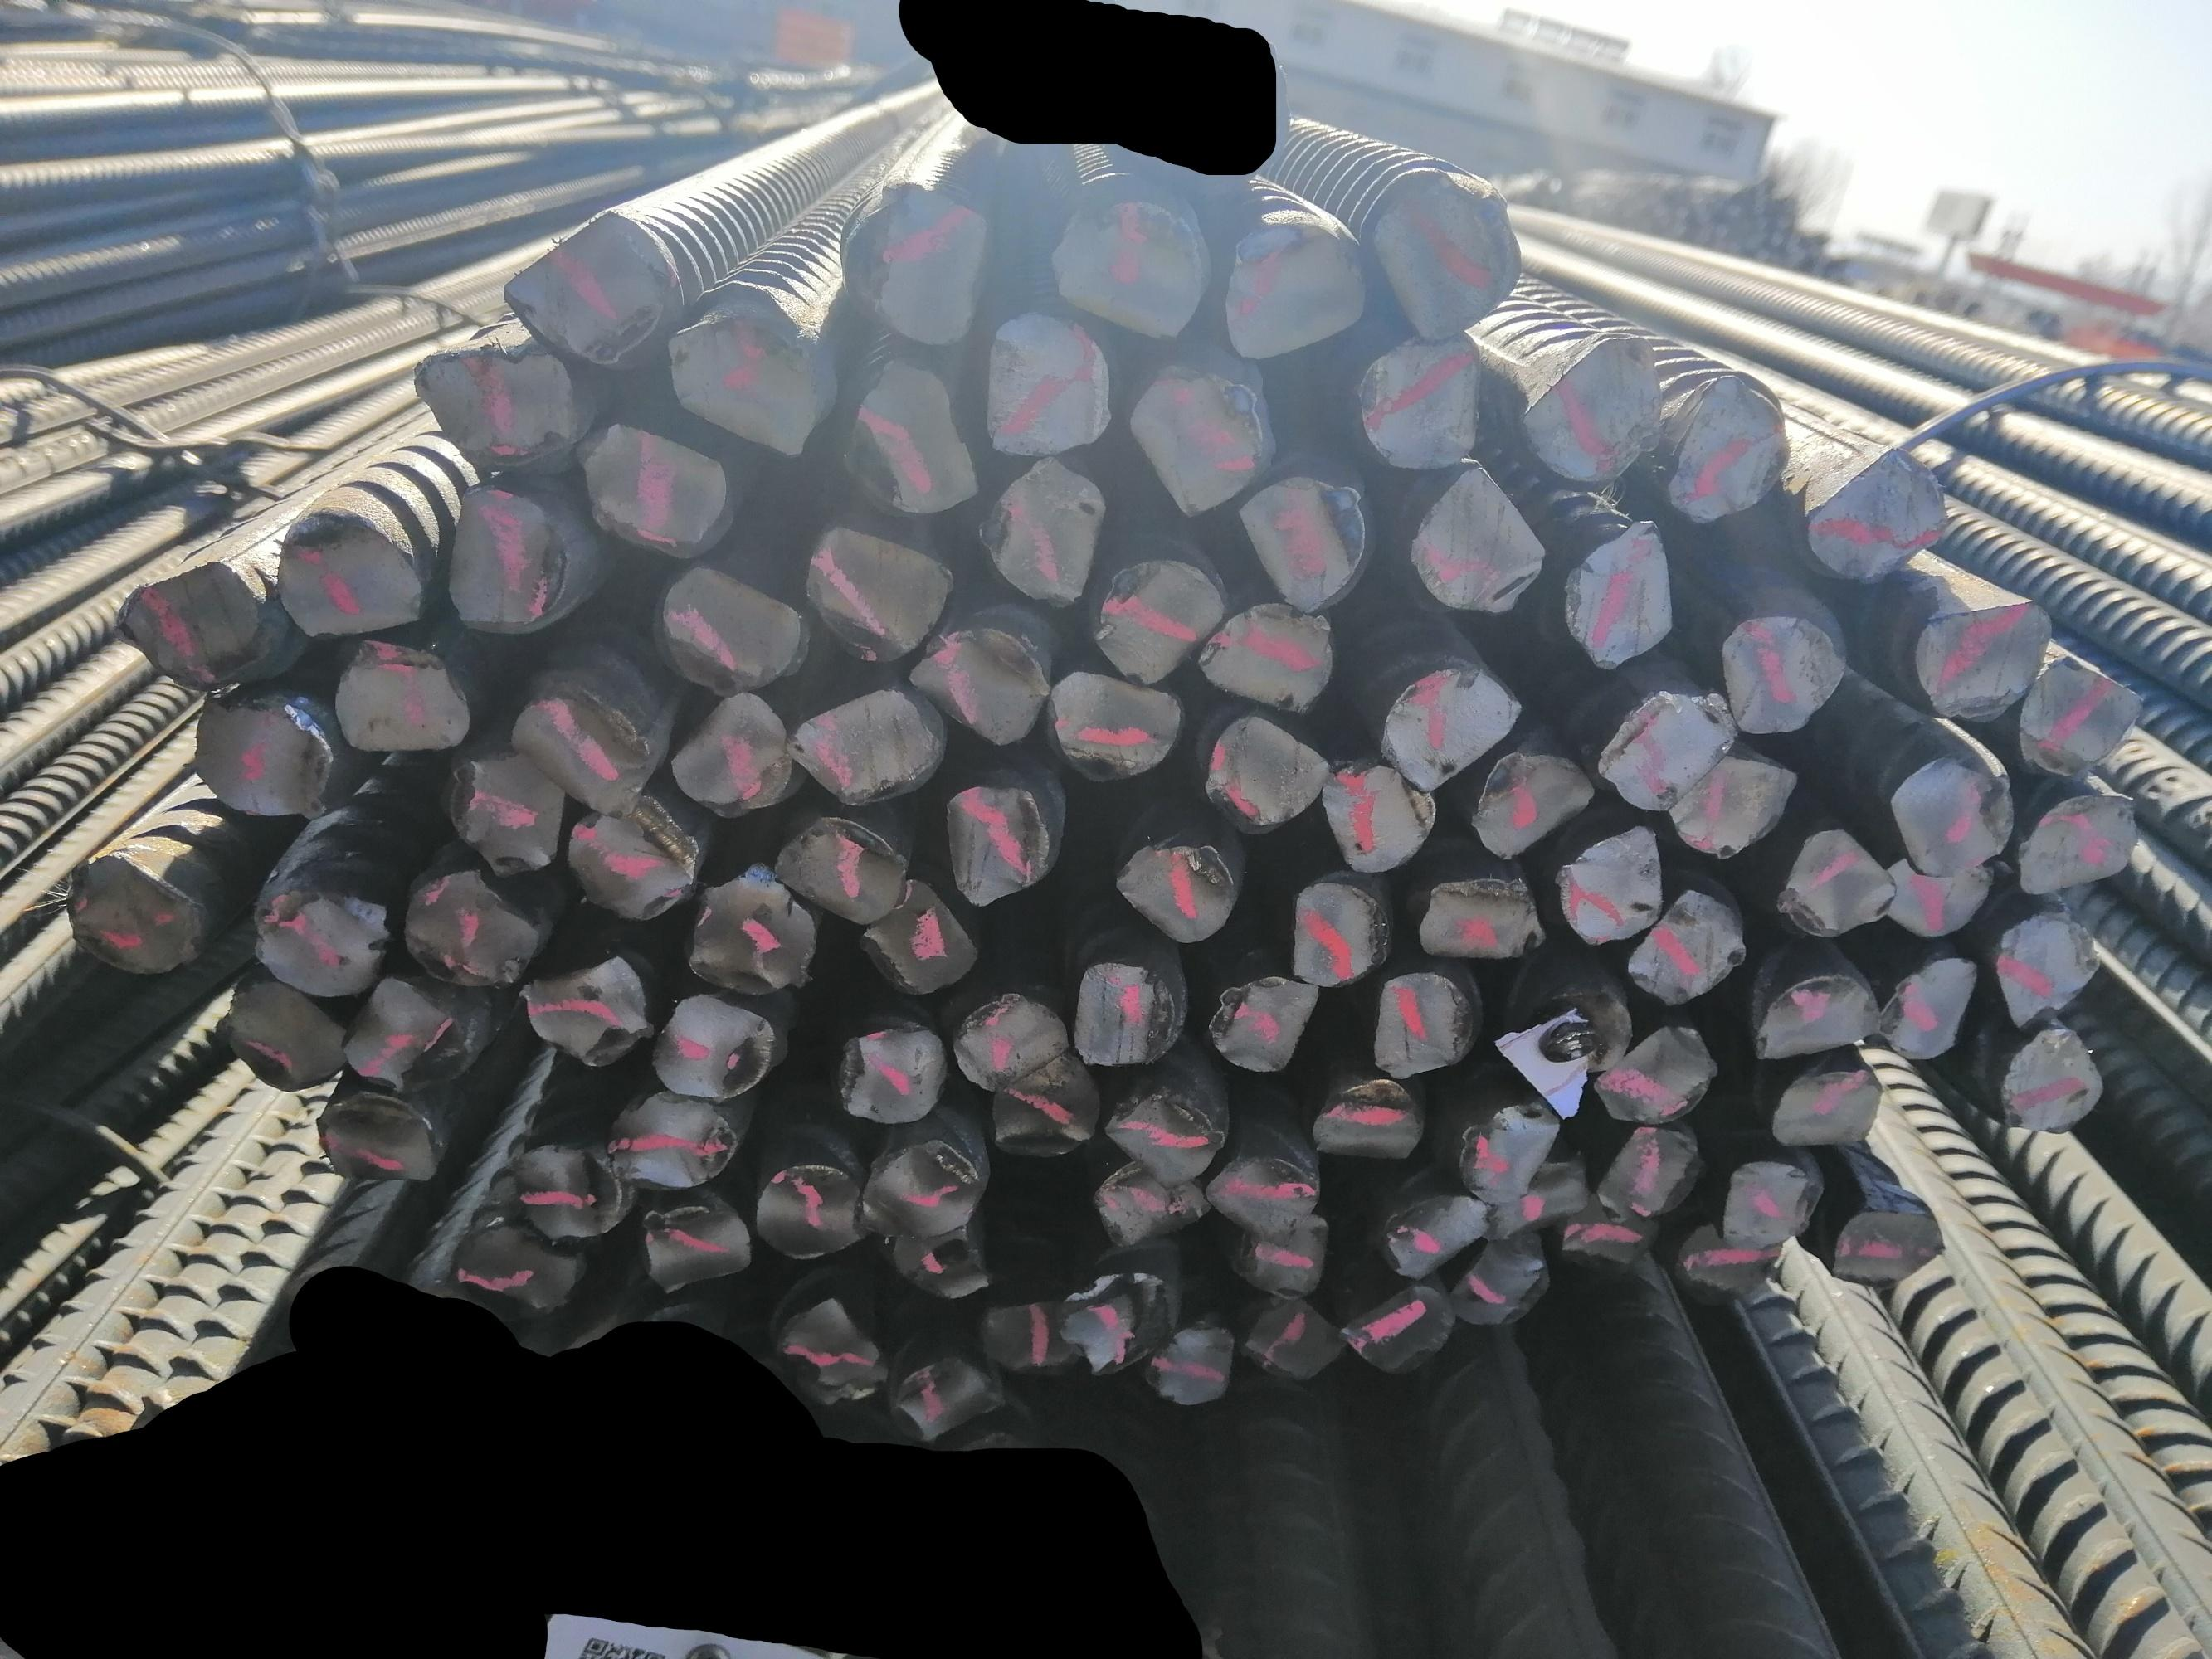bar: (1363, 169, 1520, 345), (500, 206, 671, 366), (826, 350, 983, 525), (657, 301, 844, 448), (838, 181, 990, 354), (1131, 350, 1278, 521), (1520, 333, 1663, 500), (797, 516, 957, 662), (1795, 441, 1949, 589), (1053, 188, 1208, 335), (568, 413, 729, 552), (406, 333, 572, 467), (1349, 319, 1485, 479), (1654, 369, 1788, 532), (1217, 214, 1363, 362), (277, 505, 429, 647), (973, 310, 1114, 462), (1909, 584, 2059, 721), (1407, 465, 1543, 617), (113, 558, 272, 687), (783, 671, 934, 805), (1081, 549, 1229, 685), (906, 620, 1058, 753), (981, 450, 1103, 610), (324, 636, 476, 765), (1602, 681, 1741, 821), (1377, 659, 1522, 793), (1553, 509, 1675, 667), (244, 871, 394, 1000), (443, 481, 567, 636), (185, 692, 329, 824), (1234, 467, 1367, 612), (655, 561, 807, 687), (678, 866, 823, 997), (664, 687, 805, 817), (63, 854, 202, 983), (1189, 596, 1337, 716), (509, 692, 654, 814), (2013, 641, 2142, 777), (439, 742, 563, 884), (1717, 606, 1849, 737), (643, 983, 777, 1112), (554, 796, 690, 924), (521, 948, 654, 1077), (1037, 660, 1178, 781), (933, 775, 1056, 911), (397, 864, 539, 981), (1883, 749, 2013, 875), (1199, 711, 1325, 840), (2015, 779, 2144, 904), (777, 810, 913, 927), (1623, 884, 1750, 1007), (852, 873, 971, 1006), (1121, 821, 1239, 951), (335, 976, 471, 1089), (1666, 742, 1799, 857), (216, 981, 350, 1094), (598, 1086, 739, 1192), (1471, 742, 1595, 861), (1989, 903, 2104, 1030), (457, 1213, 591, 1319), (1586, 1018, 1717, 1124), (310, 1080, 443, 1185), (987, 1053, 1105, 1169), (1072, 955, 1184, 1079), (1455, 1094, 1558, 1229), (1102, 1075, 1227, 1185), (1776, 821, 1891, 939), (1991, 1026, 2111, 1140), (772, 1288, 884, 1410), (1325, 758, 1440, 873), (1051, 1258, 1164, 1375), (1560, 824, 1668, 946), (948, 986, 1072, 1093), (1869, 946, 1975, 1068), (631, 1192, 755, 1297), (1745, 958, 1877, 1054), (835, 1021, 950, 1129), (1211, 967, 1321, 1079), (865, 1138, 980, 1244), (1365, 965, 1471, 1080), (887, 1347, 1006, 1450), (1300, 1073, 1431, 1166), (514, 1140, 629, 1244), (1232, 1281, 1347, 1385), (1339, 1279, 1459, 1378), (1417, 870, 1539, 967), (1438, 1225, 1553, 1328), (1278, 875, 1384, 985), (1515, 976, 1637, 1070), (755, 1161, 866, 1263), (1771, 1060, 1884, 1161), (1086, 1154, 1211, 1244), (1884, 840, 1996, 941), (1203, 1138, 1318, 1236), (1379, 1183, 1499, 1276), (1715, 1152, 1830, 1248), (1832, 1201, 1947, 1293), (1602, 1126, 1705, 1225), (882, 1216, 1001, 1298), (973, 1293, 1081, 1382), (1227, 1206, 1330, 1297), (1490, 1145, 1597, 1232), (1147, 1317, 1243, 1406), (1673, 1229, 1785, 1302), (1558, 1195, 1654, 1269)
